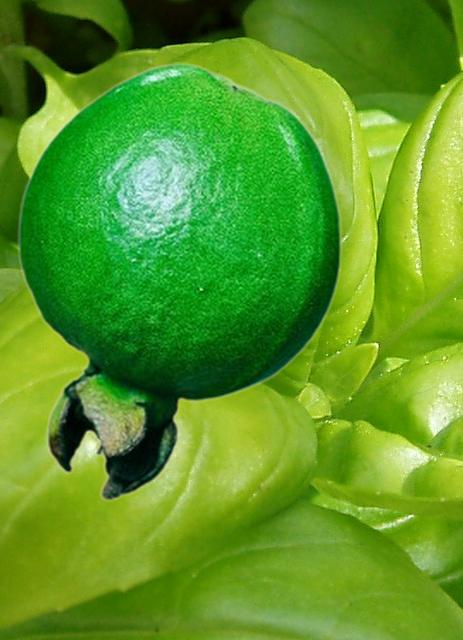guava: (16, 62, 342, 500)
